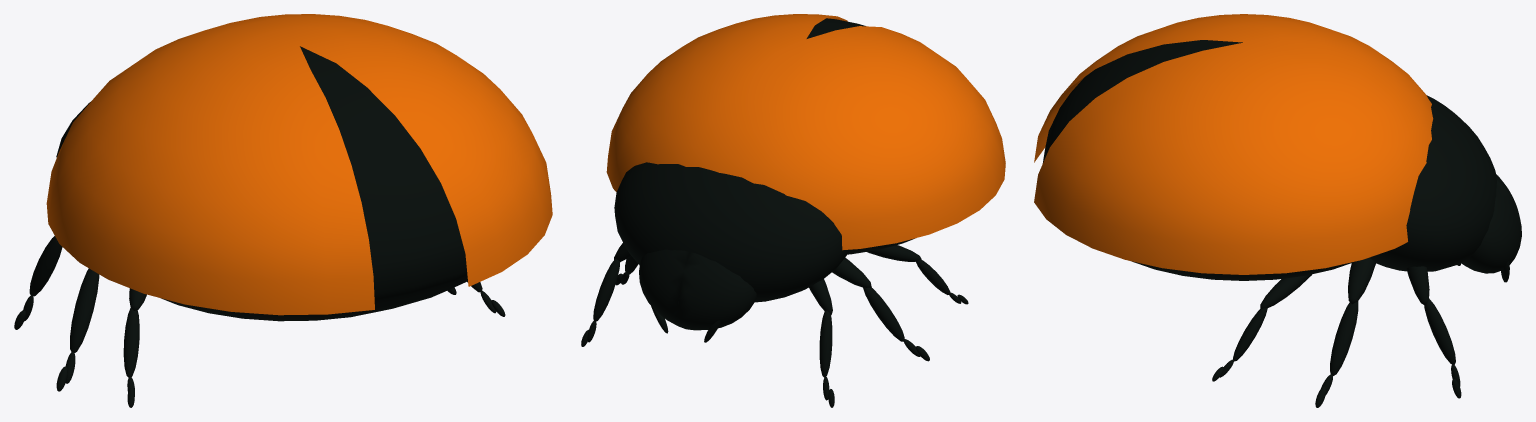
File: Orange_bug.fbx
3 views of the same model, side by side, from view 1: azimuth 30°, elevation 25°; view 2: azimuth 150°, elevation 25°; view 3: azimuth 270°, elevation 25° (orthographic). The views are drawn at different scales.
Parts seen in each view (by area): view 1: Sphere; view 2: Sphere; view 3: Sphere.
Part boxes in pixels (x1=…): Sphere: x1=14, y1=14, x2=552, y2=407; Sphere: x1=581, y1=14, x2=1005, y2=407; Sphere: x1=1034, y1=14, x2=1521, y2=407.
Bounding box in the file's own units: 176 × 129 × 196.
